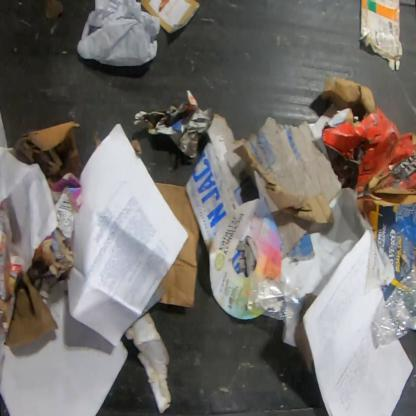cardboard: (185, 103, 361, 254), (320, 75, 415, 214), (233, 144, 336, 226), (154, 182, 200, 308), (360, 202, 415, 300), (10, 121, 84, 186), (3, 271, 60, 347), (360, 0, 404, 71)
rigid_plastic: (372, 265, 415, 349), (246, 272, 308, 324)
